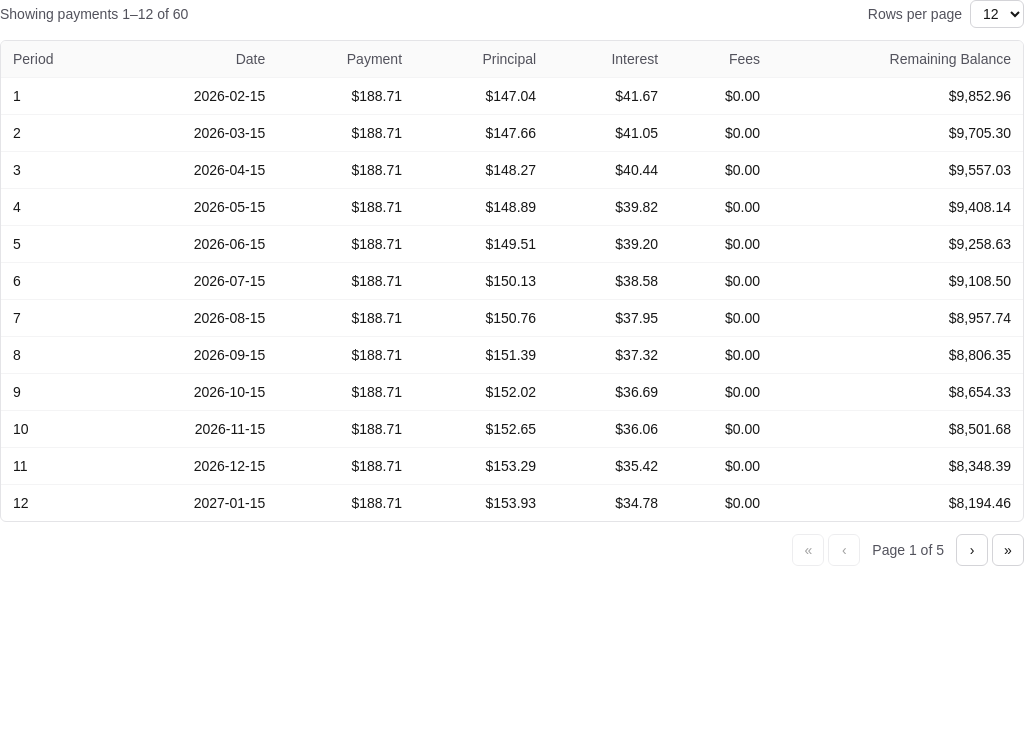
Test: AmortizationTable (REQ-FUNC-AN01) › changes the page size
Select "24" in the dropdown labelled "Rows per page". click: {"x": 997, "y": 14}
box: [970, 0, 1023, 28]
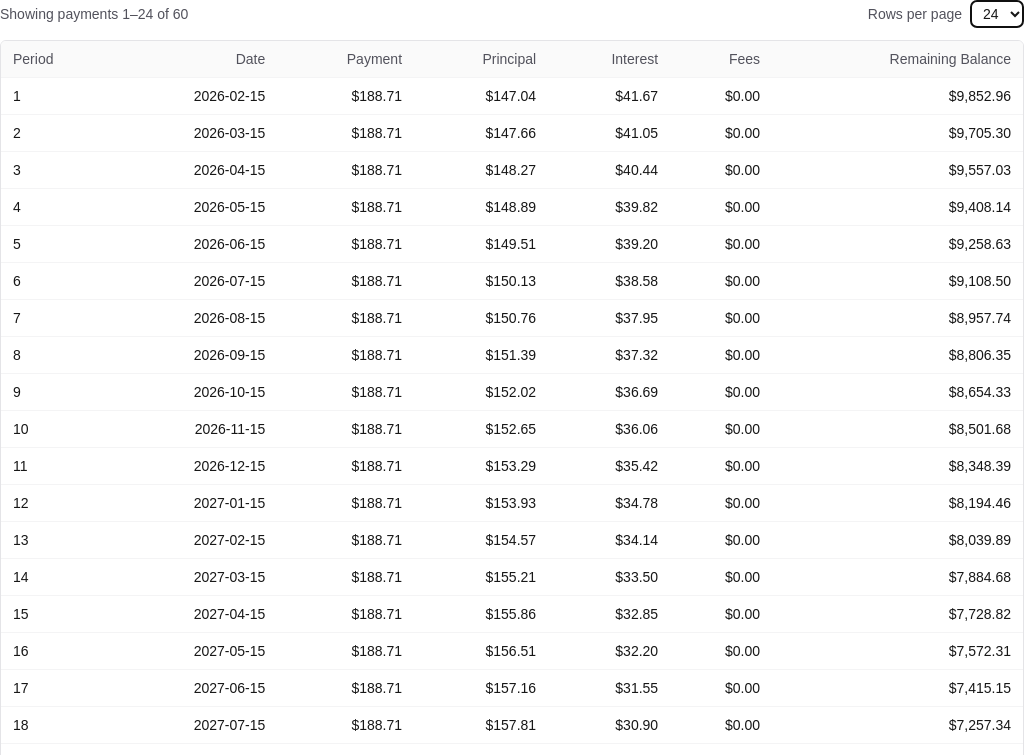
Expected: the message reads "Showing payments 1–24 of 60", [0, 6, 188, 22]
